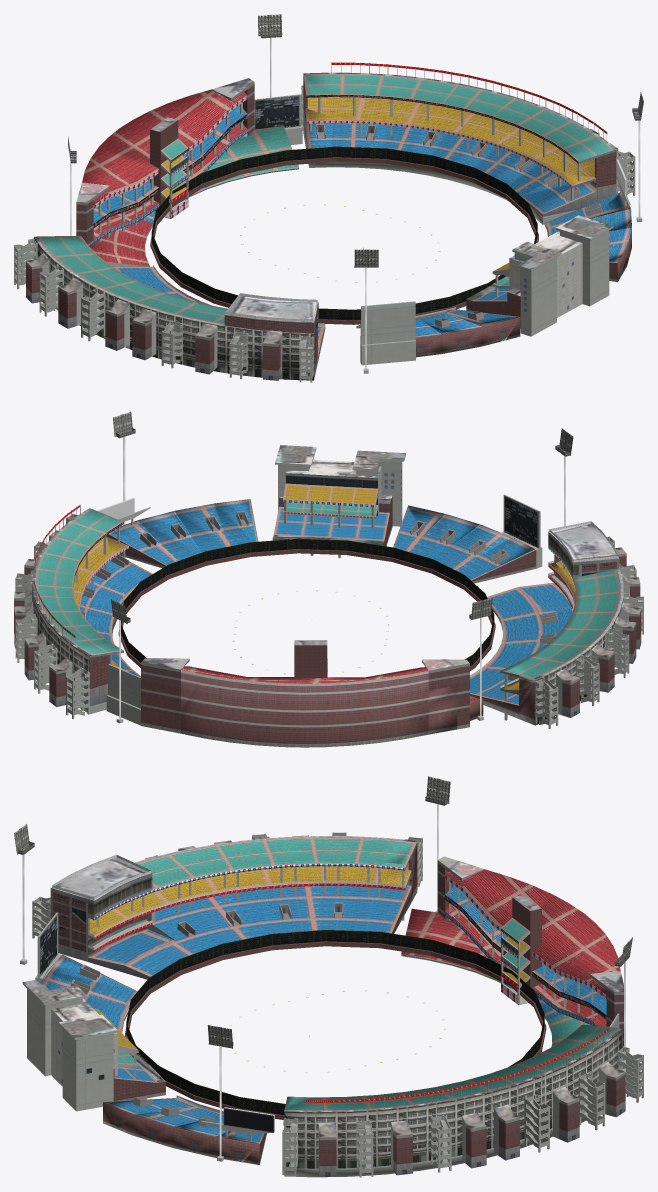
File: stadium1.glb
3 views of the same model, one above another, from view 1: azimuth 30°, elevation 25°; view 2: azimuth 150°, elevation 25°; view 3: azimuth 270°, elevation 25° (orthographic). The views are drawn at different scales.
Visible parts, largest first — view 1: Component#2, Component#48, Component#6, Component#30, Component#12, Component#35, Component#45, Component#5, Component#40, Component#8, Component#29, Component#35.001 (+11 smaller); view 2: Component#48, Component#6, Component#2, Component#35, Component#35.001, Component#29, Component#28, Component#30, Component#5, Component#40, Component#45, Component#45.001 (+11 smaller); view 3: Component#6, Component#2, Component#48, Component#30, Component#35.001, Component#5, Component#8, Component#12, Component#40, Component#35, Component#29, Component#28 (+13 smaller).
Part boxes in pixels (x1=…): Component#2: x1=303, y1=72, x2=616, y2=224; Component#48: x1=76, y1=78, x2=254, y2=247; Component#6: x1=34, y1=235, x2=325, y2=380; Component#30: x1=512, y1=215, x2=613, y2=336; Component#12: x1=91, y1=126, x2=298, y2=266; Component#35: x1=356, y1=307, x2=520, y2=357; Component#45: x1=360, y1=301, x2=415, y2=365; Component#5: x1=224, y1=293, x2=318, y2=379; Component#40: x1=150, y1=157, x2=538, y2=324; Component#8: x1=150, y1=117, x2=188, y2=218; Component#29: x1=492, y1=231, x2=582, y2=317; Component#35.001: x1=544, y1=192, x2=631, y2=282; Component#48: x1=141, y1=658, x2=469, y2=747; Component#6: x1=470, y1=547, x2=623, y2=725; Component#2: x1=32, y1=508, x2=152, y2=714; Component#35: x1=393, y1=505, x2=536, y2=583; Component#35.001: x1=107, y1=499, x2=258, y2=568; Component#29: x1=283, y1=459, x2=381, y2=518; Component#28: x1=272, y1=495, x2=392, y2=546; Component#30: x1=275, y1=445, x2=405, y2=526; Component#5: x1=548, y1=521, x2=619, y2=577; Component#40: x1=118, y1=549, x2=495, y2=670; Component#45: x1=501, y1=494, x2=542, y2=568; Component#45.001: x1=106, y1=664, x2=140, y2=725; Component#6: x1=88, y1=836, x2=417, y2=979; Component#2: x1=284, y1=1024, x2=623, y2=1177; Component#48: x1=437, y1=856, x2=623, y2=1045; Component#30: x1=22, y1=979, x2=117, y2=1111; Component#35.001: x1=103, y1=1095, x2=266, y2=1164; Component#5: x1=50, y1=854, x2=152, y2=961; Component#8: x1=501, y1=895, x2=541, y2=1005; Component#12: x1=401, y1=908, x2=590, y2=1046; Component#40: x1=125, y1=941, x2=546, y2=1119; Component#35: x1=41, y1=954, x2=137, y2=1032; Component#29: x1=51, y1=998, x2=138, y2=1086; Component#28: x1=113, y1=1053, x2=165, y2=1101.
Bounding box in the file's own units: 231 × 56.52 × 205.
38 materials, 34 textured.
